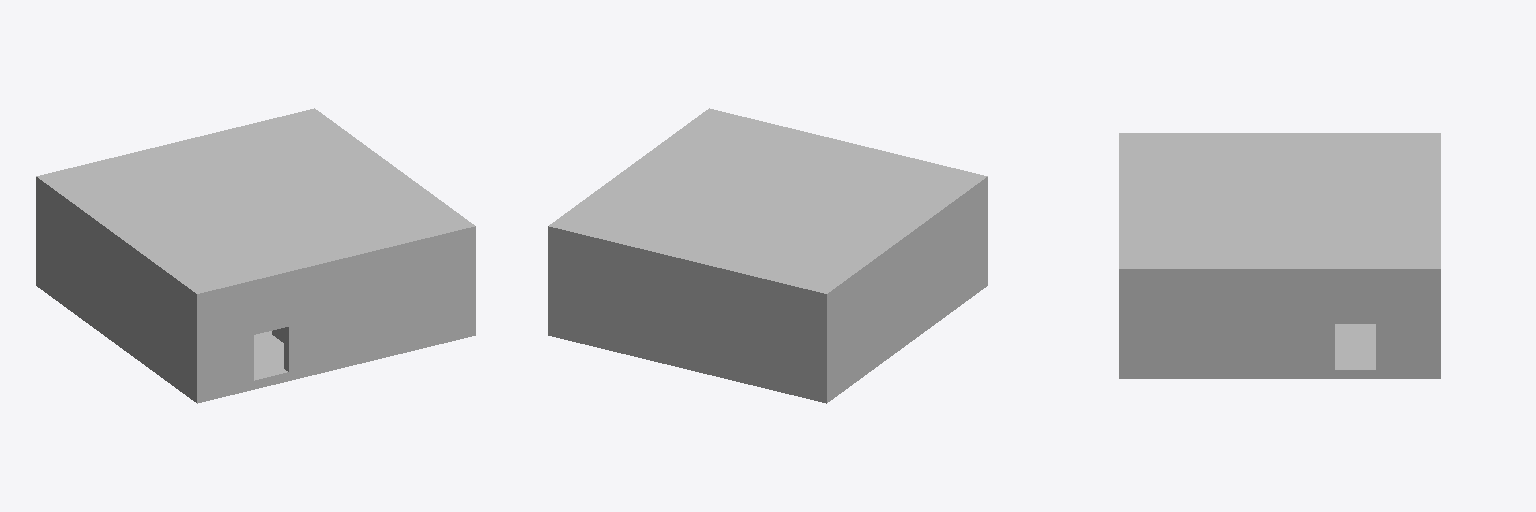
Rendered from 90do_bokdo_R.obj.
The picture shows the model from 3 angles: view 1: azimuth 30°, elevation 25°; view 2: azimuth 150°, elevation 25°; view 3: azimuth 270°, elevation 25°; orthographic projection.
Visible parts, largest first — view 1: Cube.007, Cube.004, Cube.008, Cube.005, Cube.001, Cube.024, Cube.003; view 2: Cube.007, Cube, Cube.008, Cube.001, Cube.006; view 3: Cube.007, Cube.003, Cube.006, Cube.001, Cube.023.
Boxes of the visible parts, <box> form: Cube.007: <box>36,108,475,302</box>; Cube.004: <box>284,238,466,371</box>; Cube.008: <box>36,186,191,389</box>; Cube.005: <box>192,290,253,393</box>; Cube.001: <box>36,277,475,403</box>; Cube.024: <box>254,281,288,334</box>; Cube.003: <box>467,235,475,328</box>; Cube.007: <box>548,108,987,302</box>; Cube: <box>557,238,817,391</box>; Cube.008: <box>818,189,982,393</box>; Cube.001: <box>548,277,987,403</box>; Cube.006: <box>548,235,556,328</box>; Cube.007: <box>1119,133,1440,277</box>; Cube.003: <box>1119,278,1334,369</box>; Cube.006: <box>1376,278,1440,369</box>; Cube.001: <box>1119,324,1440,378</box>; Cube.023: <box>1335,278,1375,323</box>.
Bounding box in the file's own units: 32 × 12 × 32.